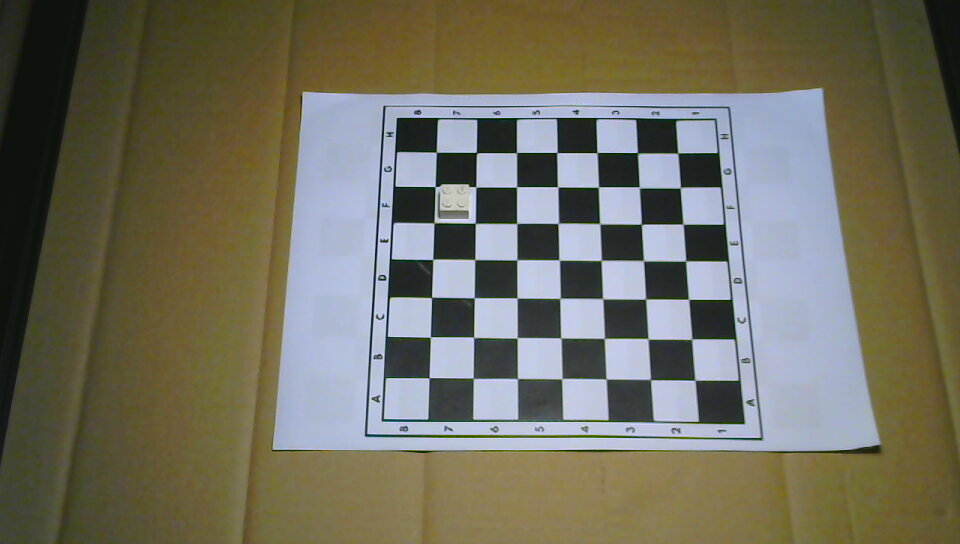wp: (438, 183, 470, 220)
